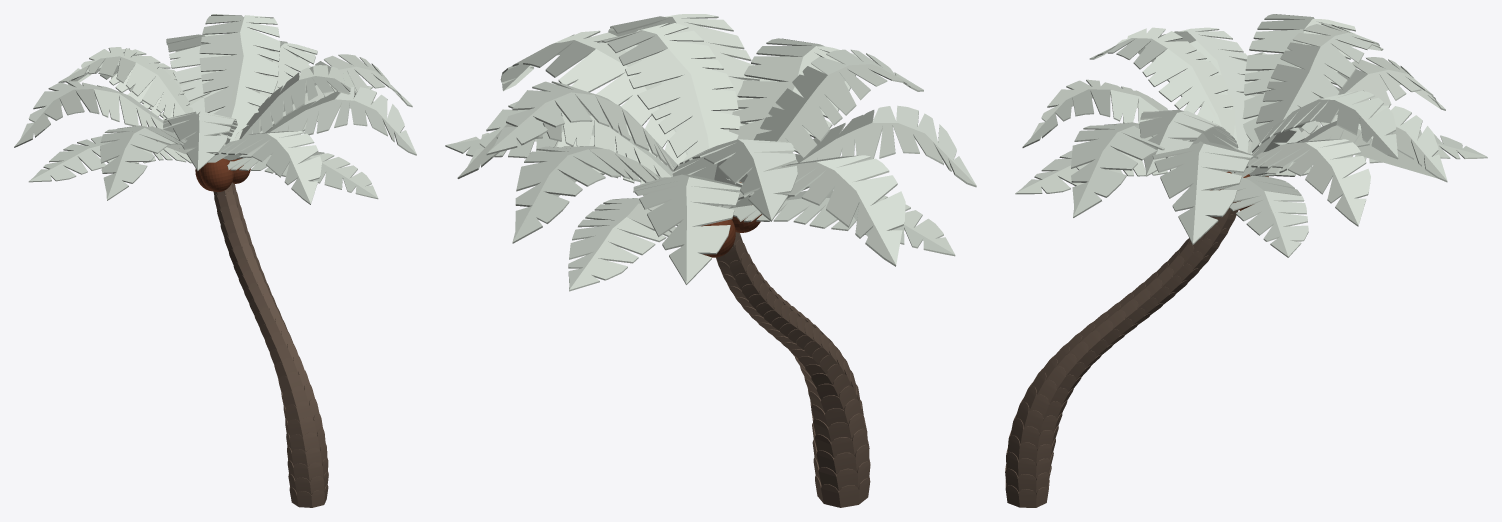
The model's file is low poly palm tree.fbx.
The picture shows the model from 3 angles, left to right: view 1: azimuth 30°, elevation 25°; view 2: azimuth 150°, elevation 25°; view 3: azimuth 270°, elevation 25°; orthographic projection. The views are drawn at different scales.
Parts seen in each view (by area): view 1: leaves, tronc, noix de coco; view 2: leaves, tronc; view 3: leaves, tronc.
Boxes of the visible parts, x1=… form: leaves: x1=14, y1=14, x2=416, y2=204; tronc: x1=213, y1=182, x2=328, y2=507; noix de coco: x1=200, y1=158, x2=233, y2=191; leaves: x1=445, y1=14, x2=976, y2=291; tronc: x1=716, y1=232, x2=870, y2=507; leaves: x1=1015, y1=14, x2=1487, y2=257; tronc: x1=1005, y1=209, x2=1238, y2=507.
Size of the model in its own units: 1570 by 1563 by 1564.
